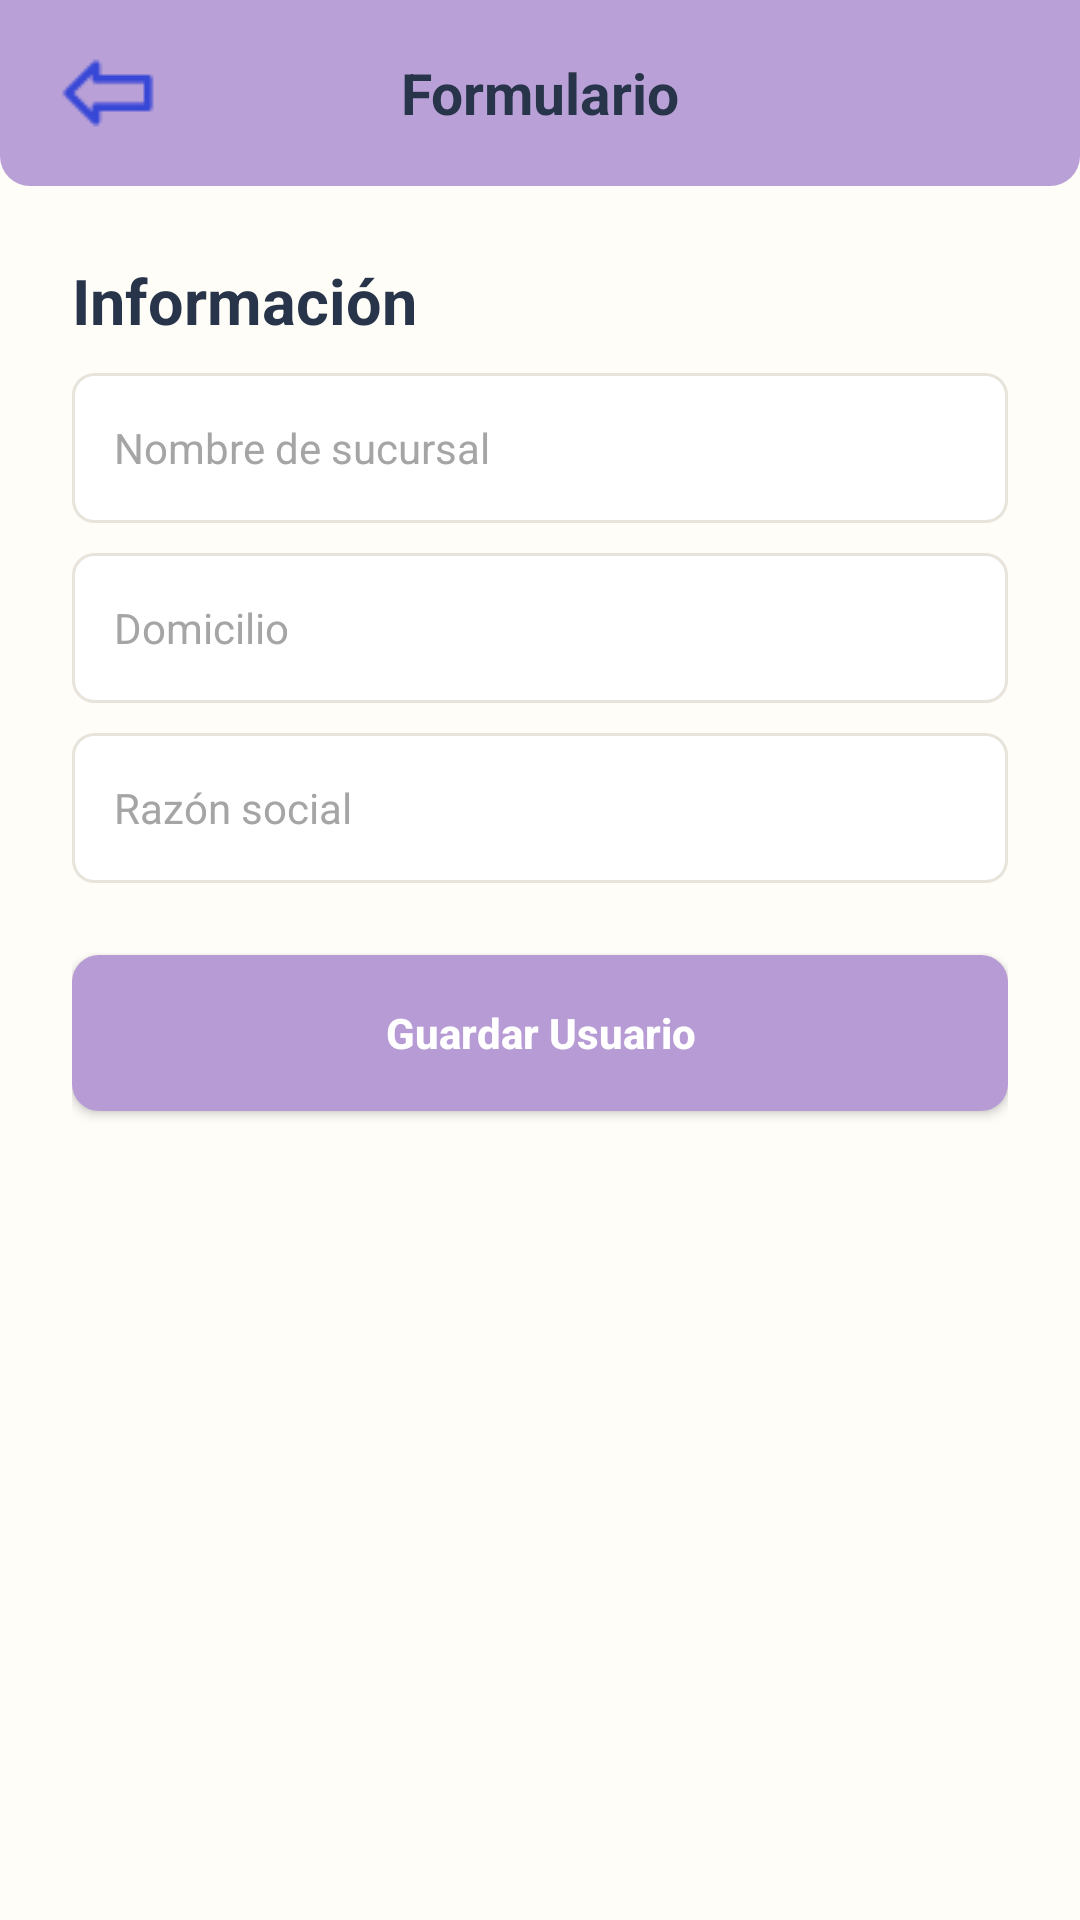

Icons on this 1080x1920 Android screen, each with the point to tap as (x,y):
Volver: (108,93)
